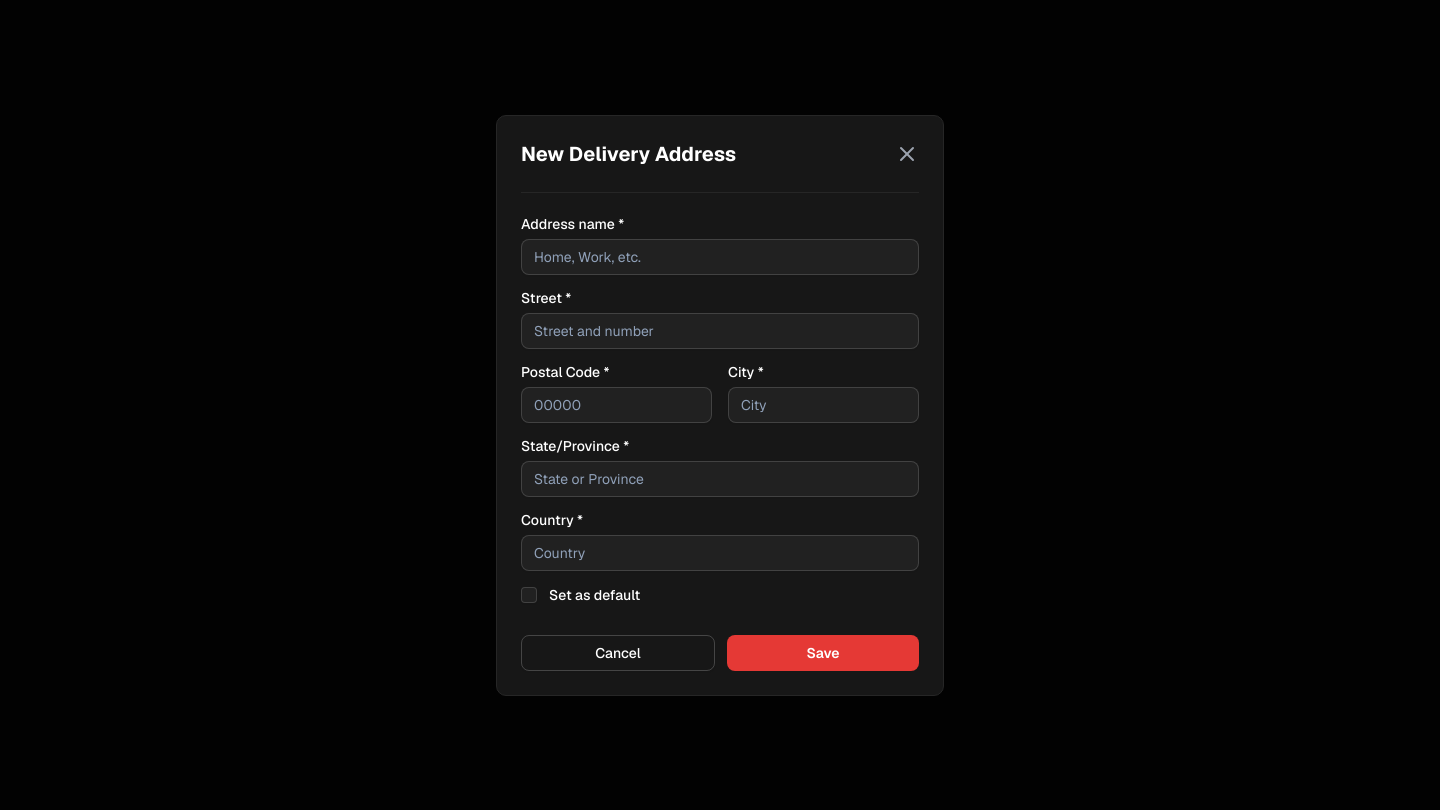
AddDeliveryAddressModal › form submission - create mode › displays error message on submission failure
Type "Test" into the field labelled "Address name *". click: (720,256)
box: [521,238,919,274]
Type "Test Street" into the field labelled "Street *". click: (720,330)
box: [521,312,919,348]
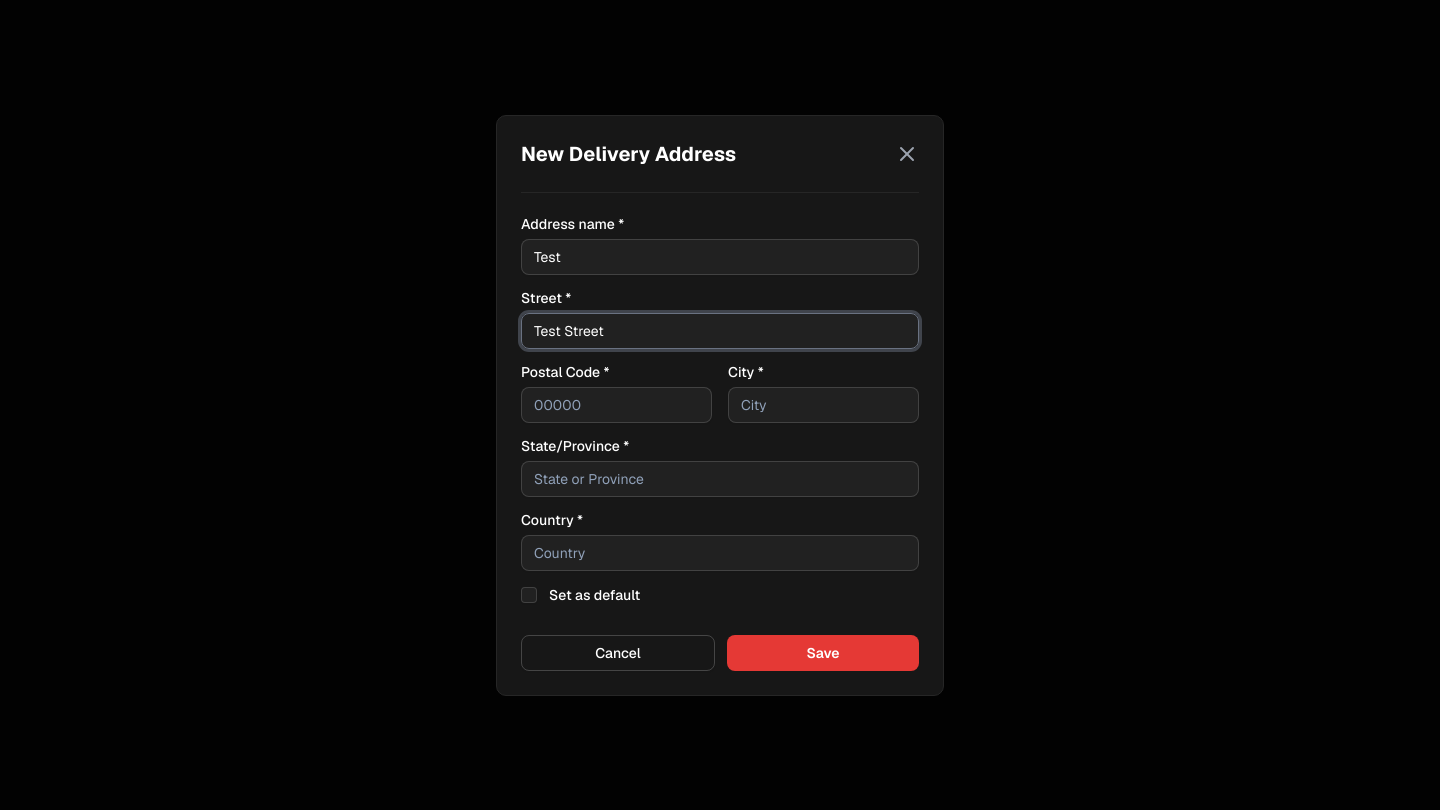
Type "Test City" into the field labelled "City *". click: (824,404)
box: [728,386,919,422]
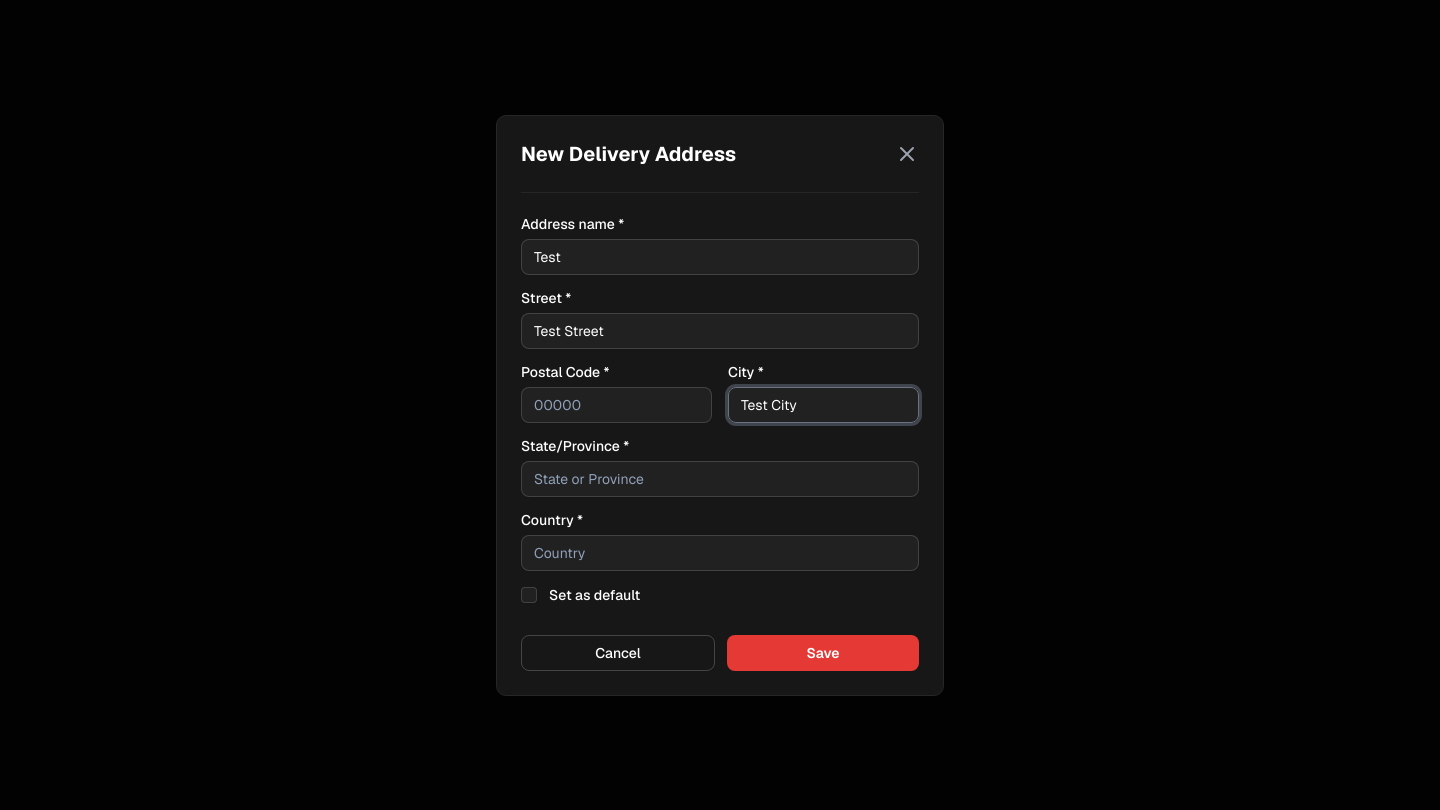
Type "Test State" into the field labelled "State/Province *". click: (720,478)
box: [521,460,919,496]
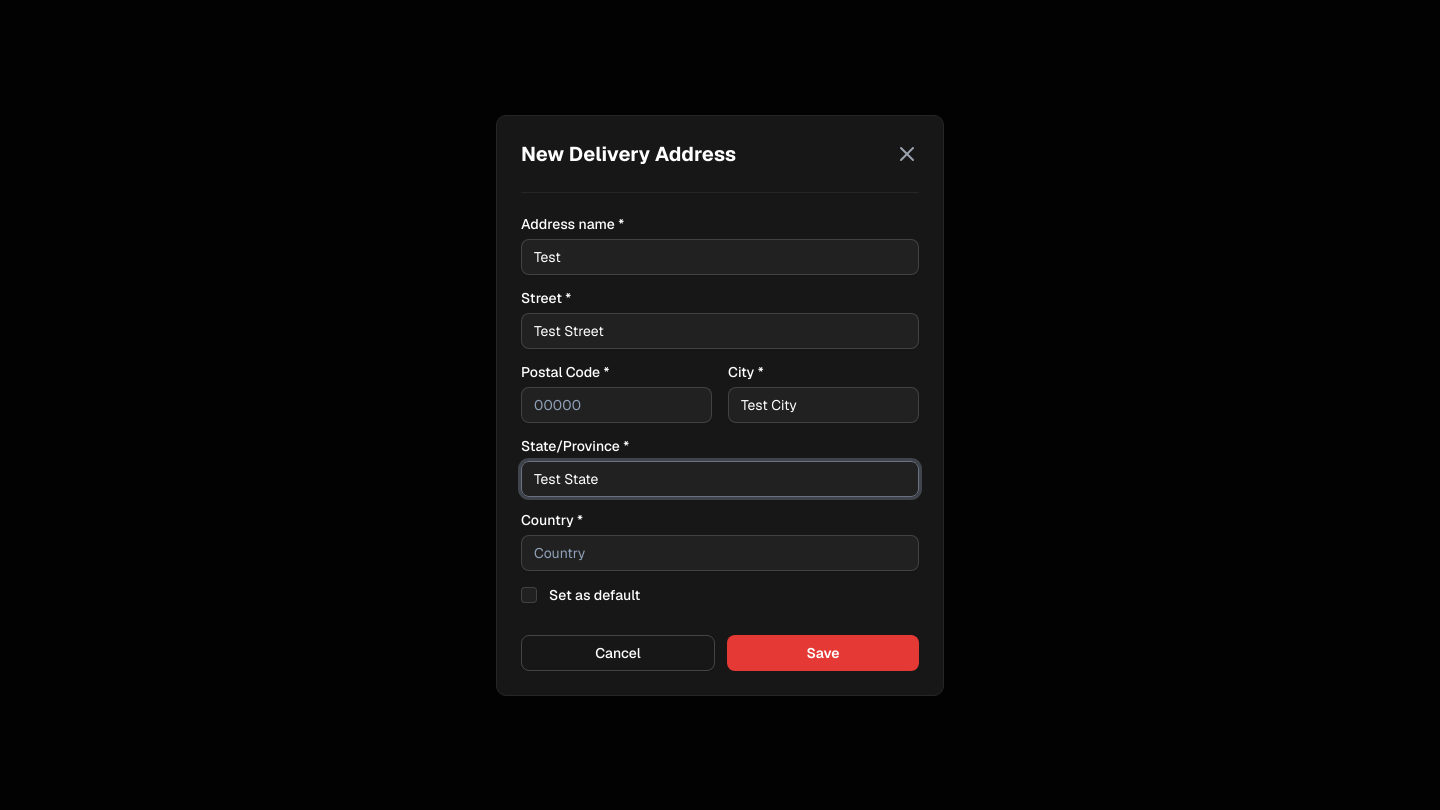
Type "12345" into the field labelled "Postal Code *". click: (616,404)
box: [521,386,712,422]
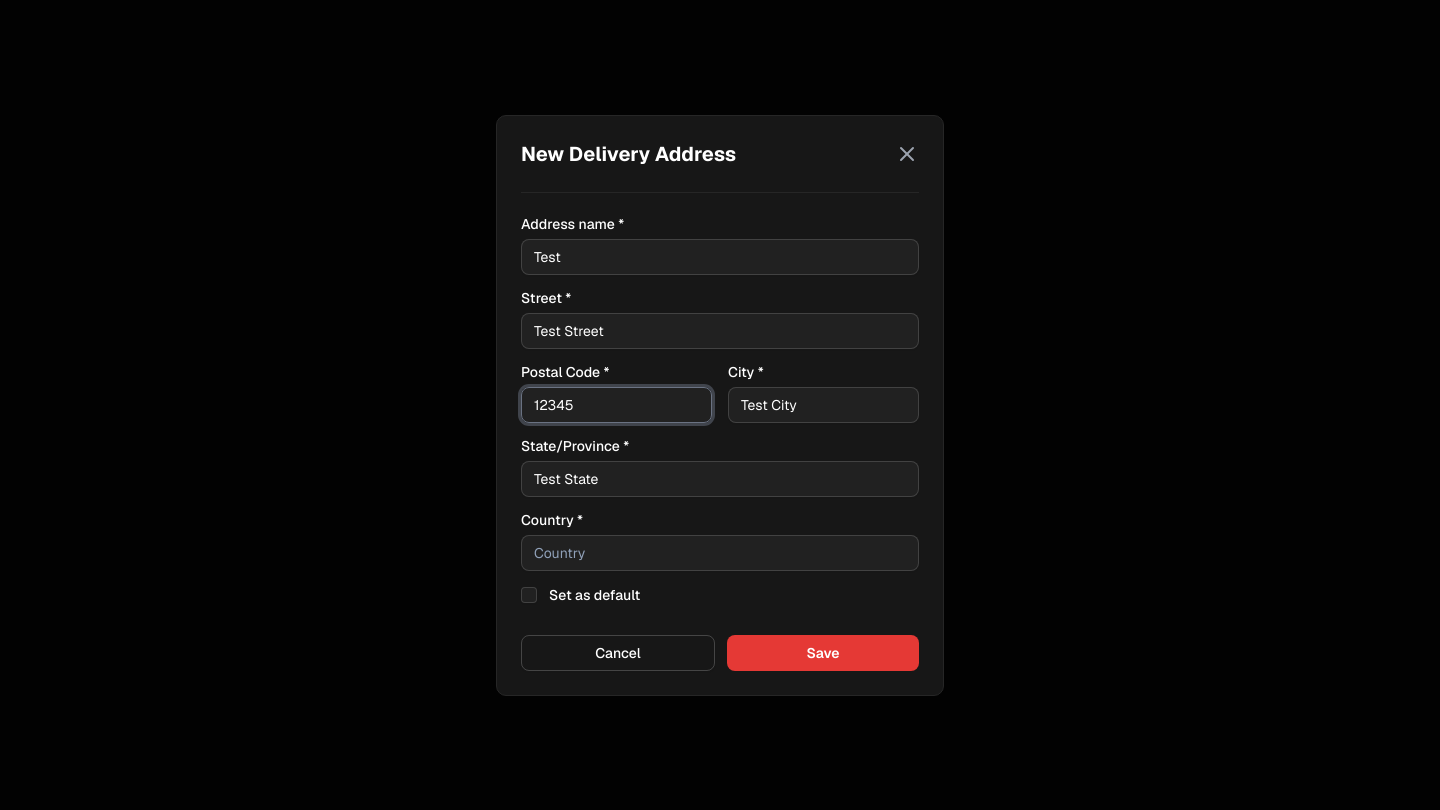
Type "Test Country" into the field labelled "Country *". click: (720,552)
box: [521,534,919,570]
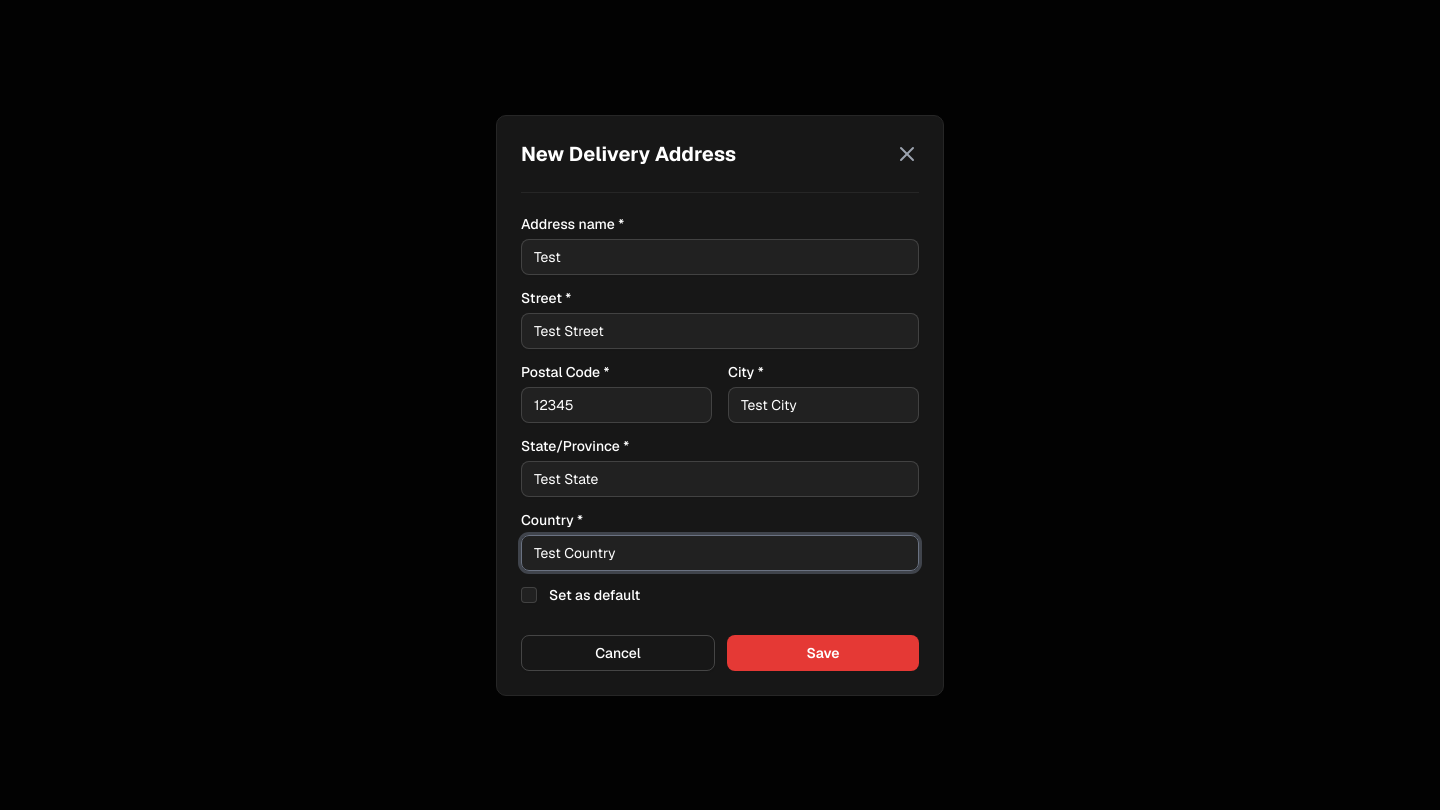
Click the button "Save". click: (823,652)
box: [727,634,919,670]
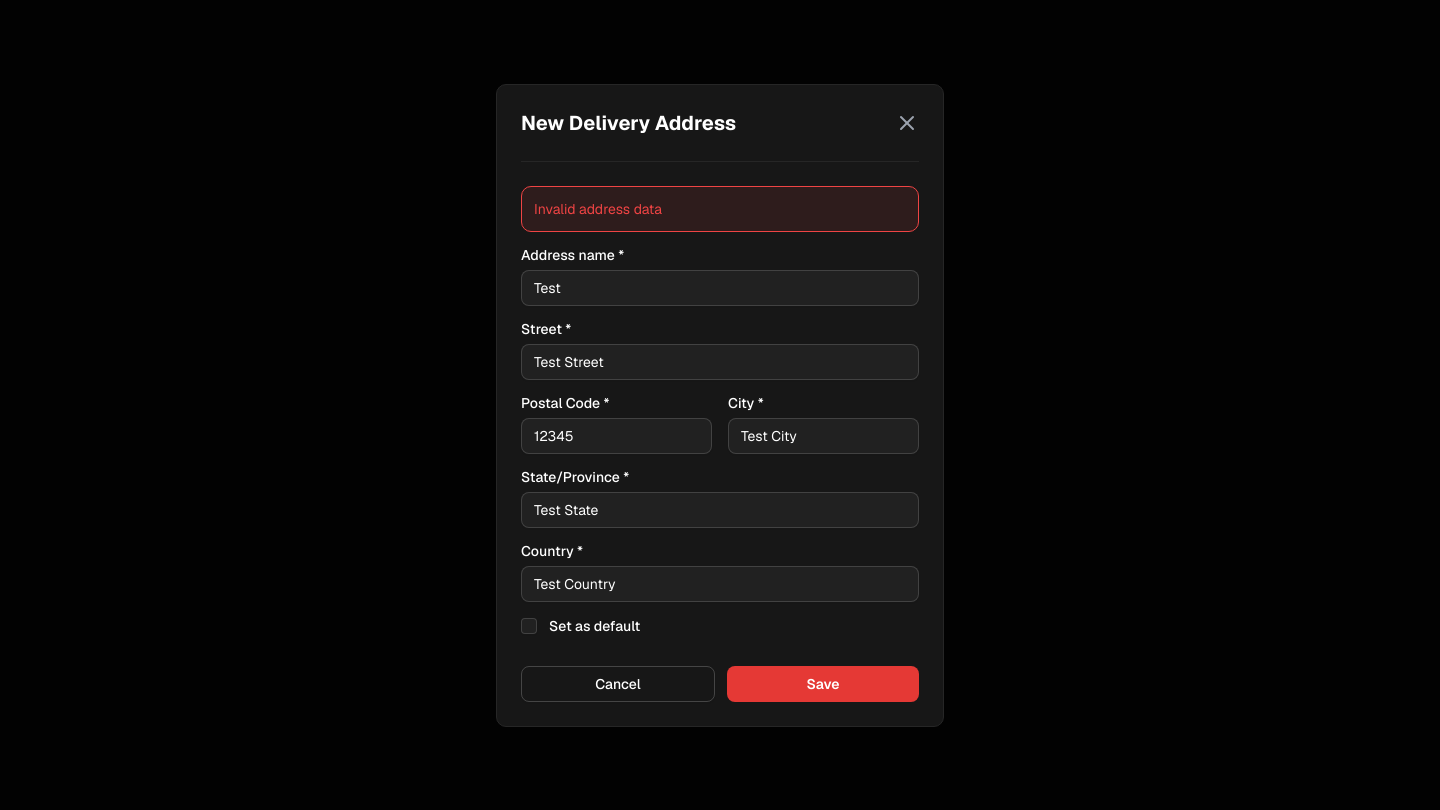
Now the text "Invalid address data" is shown, box [521,186,919,232]
